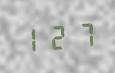one: (18, 23, 43, 54)
seven: (71, 18, 96, 49)
two: (45, 21, 70, 51)
